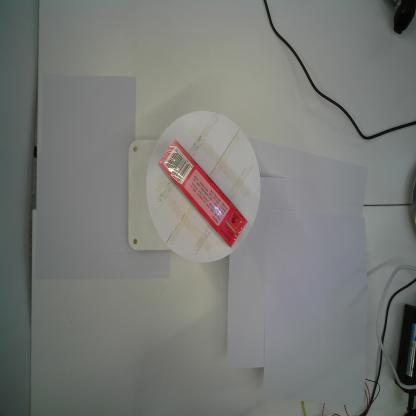Instant Drink: (157, 138, 248, 249)
